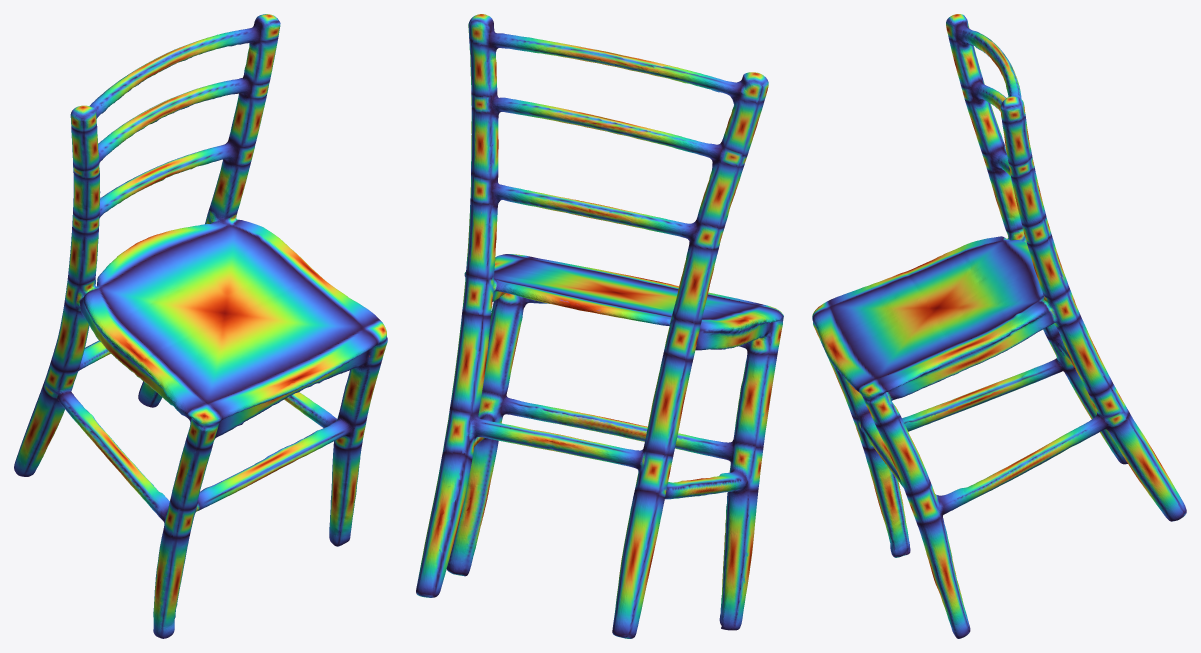
File: gen3.glb
3 renders of one model, left to right at view 1: azimuth 30°, elevation 25°; view 2: azimuth 150°, elevation 25°; view 3: azimuth 270°, elevation 25°, orthographic. The views are drawn at different scales.
Visible parts, largest first — view 1: Node; view 2: Node; view 3: Node.
Part boxes in pixels (x1,y1,x2,y2): Node: (14, 14, 387, 638); Node: (416, 14, 783, 638); Node: (812, 14, 1186, 638).
Size of the model in its own units: 311 by 576 by 365.
1 material, 1 textured.
